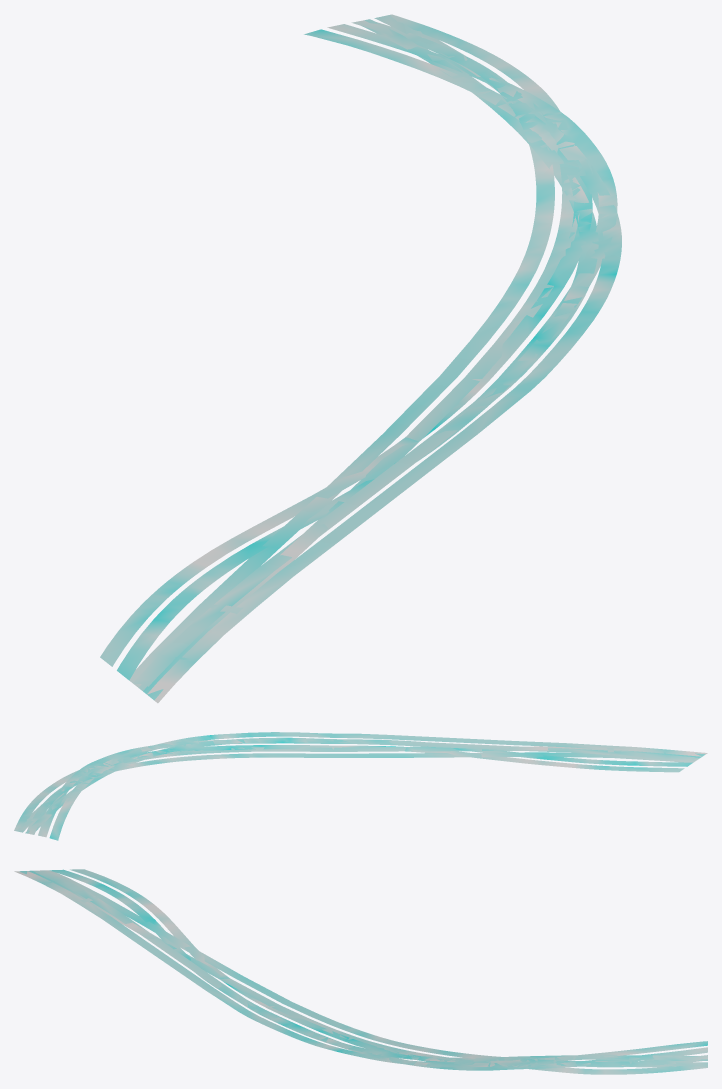
3 renders of one model, top to bottom at view 1: azimuth 30°, elevation 25°; view 2: azimuth 150°, elevation 25°; view 3: azimuth 270°, elevation 25°, orthographic. The views are drawn at different scales.
Visible parts, largest first — view 1: SpaceCenter_Long3_GenerateRoad_Sand_TireTracks_Narrow_Mesh_x; view 2: SpaceCenter_Long3_GenerateRoad_Sand_TireTracks_Narrow_Mesh_x; view 3: SpaceCenter_Long3_GenerateRoad_Sand_TireTracks_Narrow_Mesh_x.
Boxes of the visible parts, x1,y1,x2,y2 form: SpaceCenter_Long3_GenerateRoad_Sand_TireTracks_Narrow_Mesh_x: (100,14,621,703); SpaceCenter_Long3_GenerateRoad_Sand_TireTracks_Narrow_Mesh_x: (14,732,707,840); SpaceCenter_Long3_GenerateRoad_Sand_TireTracks_Narrow_Mesh_x: (14,869,707,1074).
Size of the model in its own units: 1341 by 1133 by 98.77.
